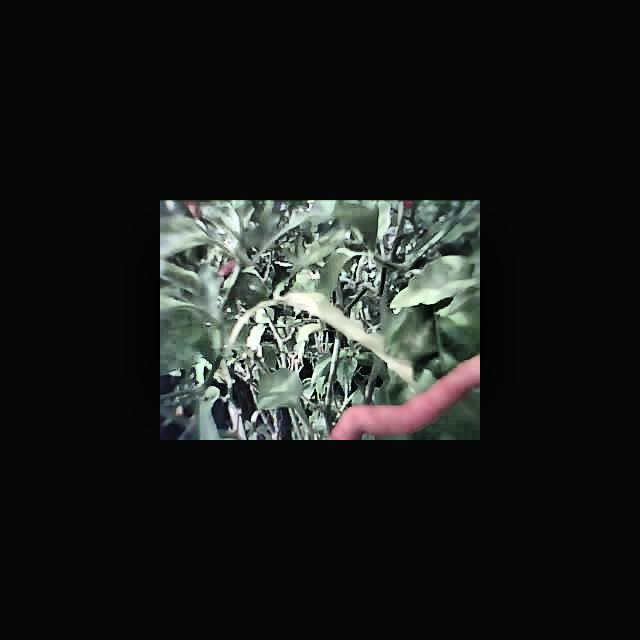Cabai: (333, 350, 479, 440)
